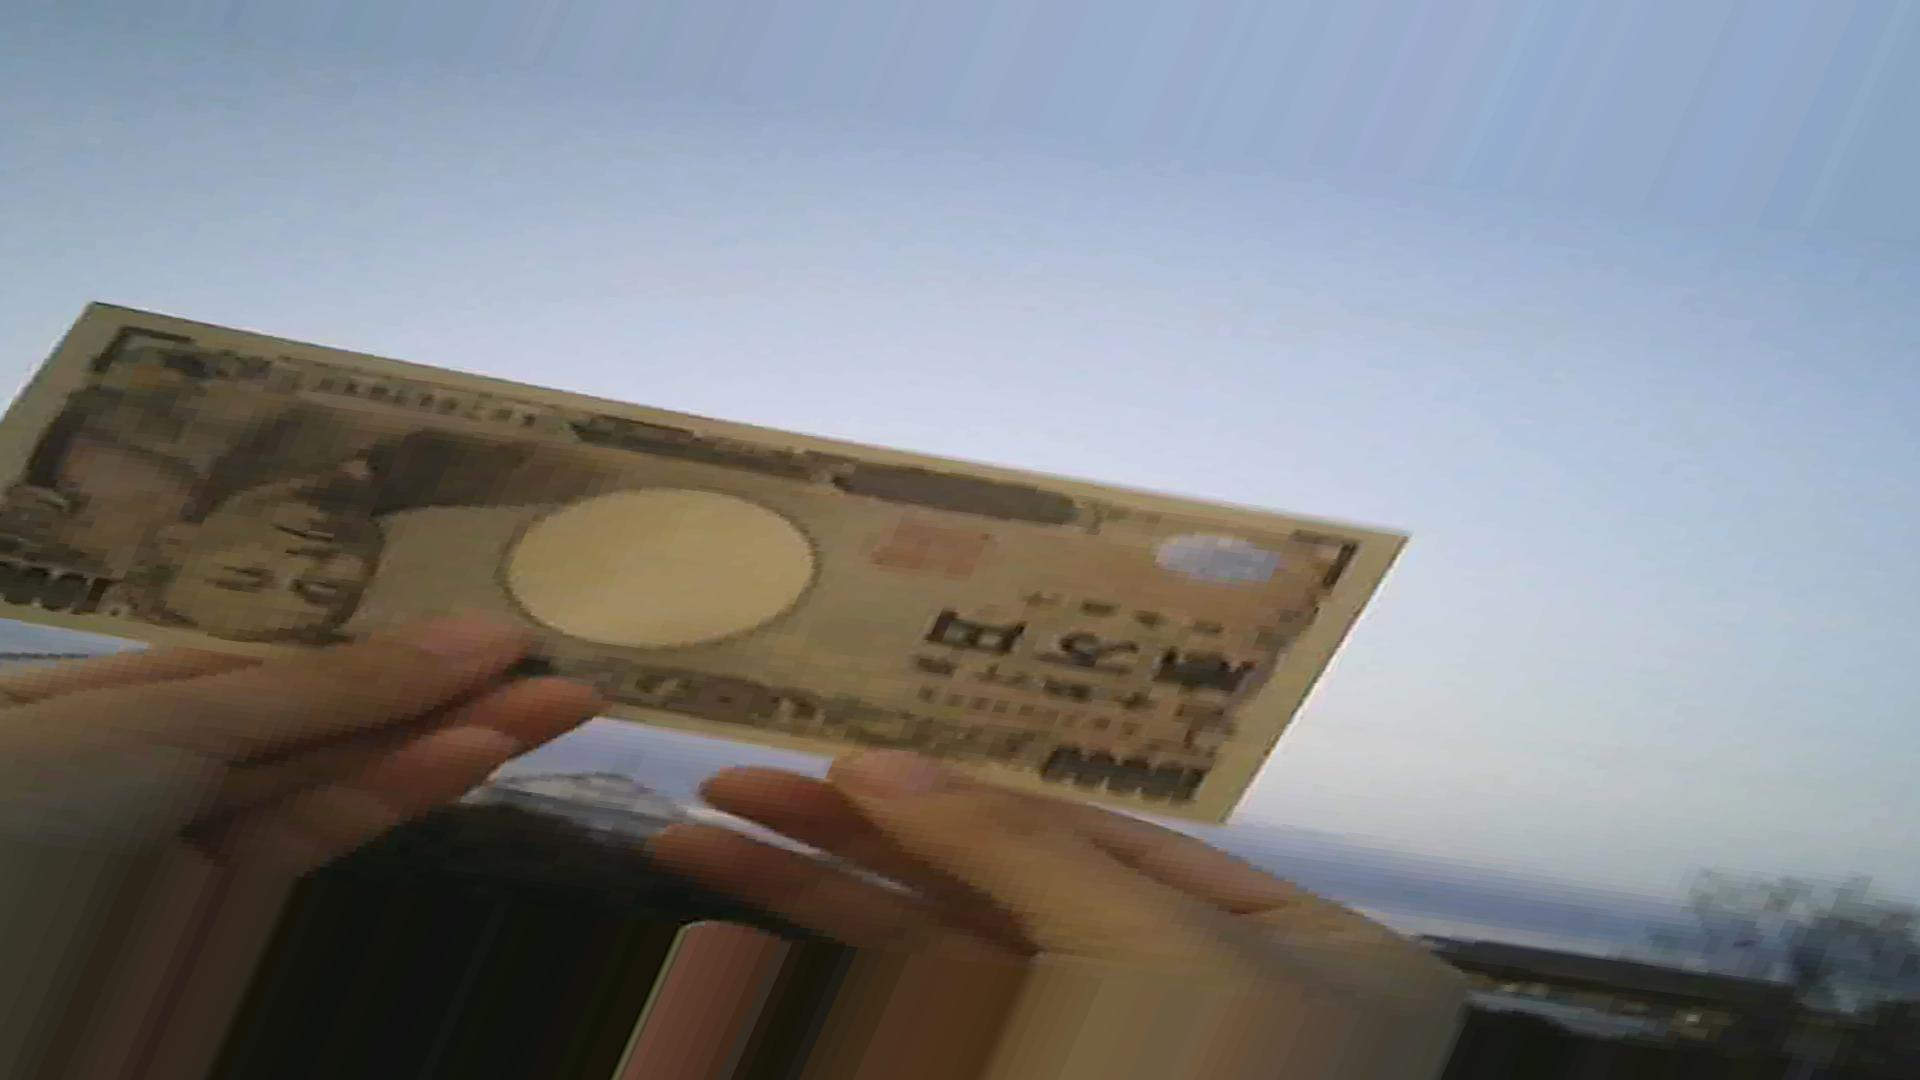10,000 Yen: (5, 287, 1402, 824)
